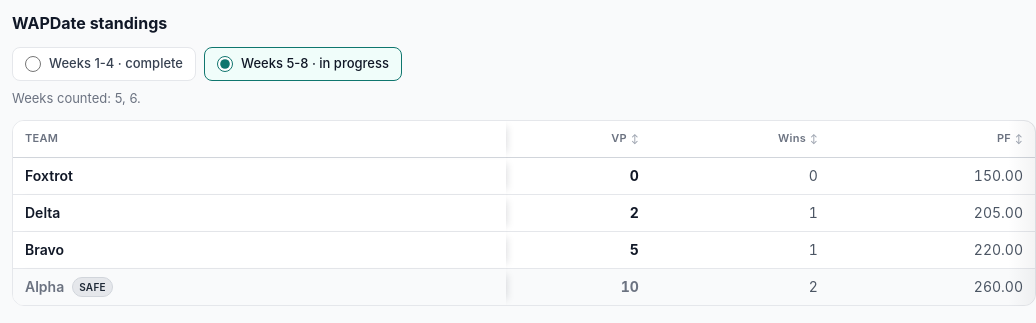
Scenario: WapdateSection (AC-WD-08) › switches to another offered period and shows its rows and counted weeks
The image size is (1036, 323).
Click the radio button labelled "Weeks 1-4 · complete".
click(33, 64)  # box x1=25 y1=56 x2=41 y2=72
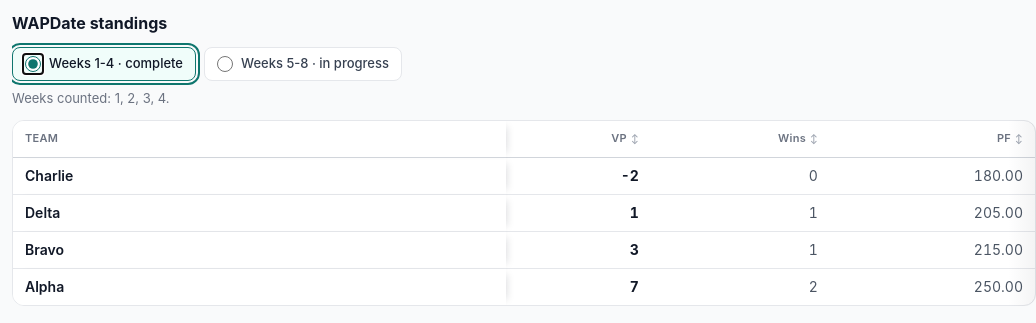
Now the radio button labelled "Weeks 1-4 · complete" is checked, box x1=25 y1=56 x2=41 y2=72
Now the text "Weeks counted: 1, 2, 3, 4." is shown, box x1=12 y1=90 x2=170 y2=106
Now the column heading "Charlie" is shown, box x1=13 y1=158 x2=506 y2=195
